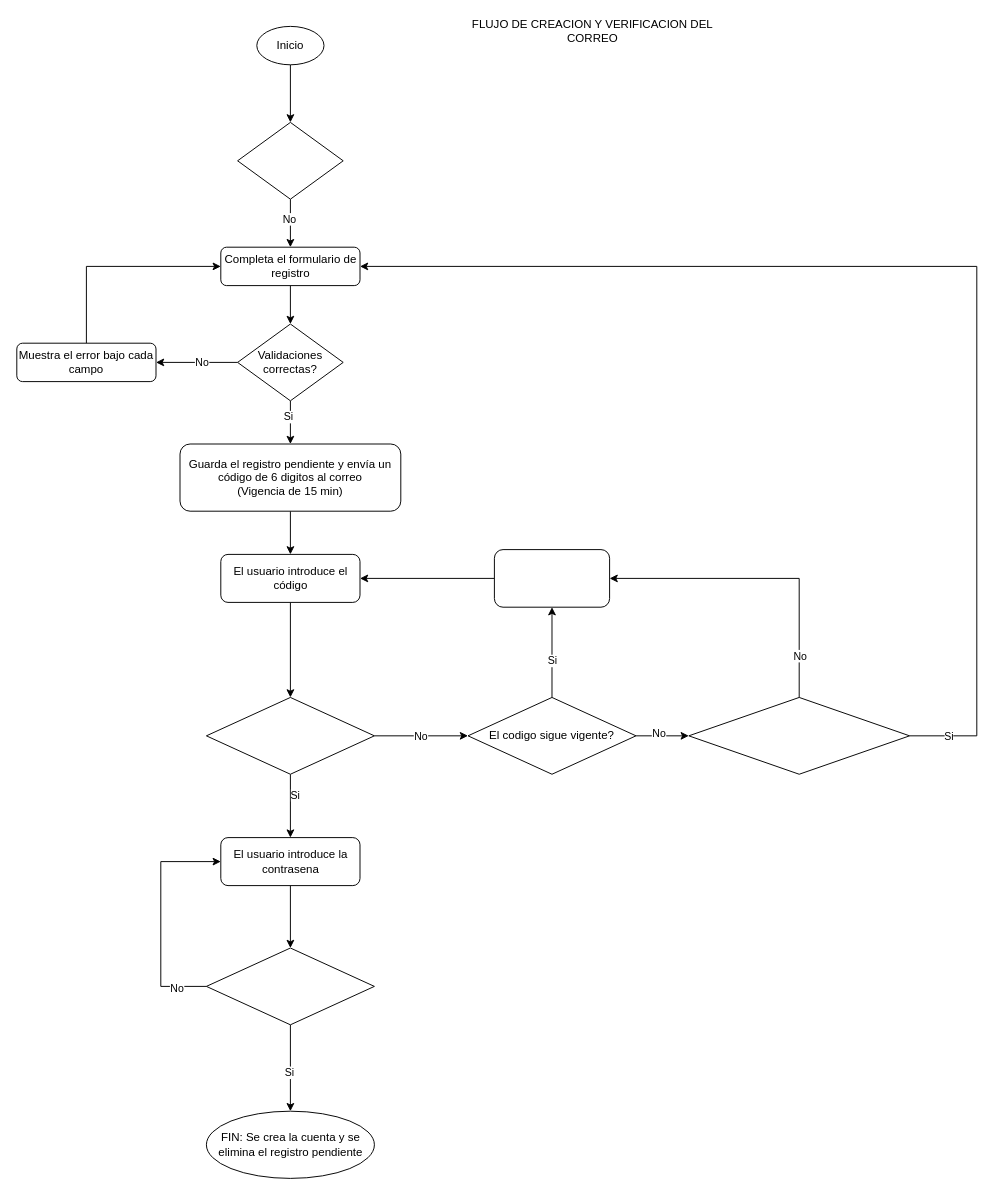
Image size: 1001x1195. Some labels were removed from this diagram. Here are the shapes that lost their labels. From the top down, the centre of each, then its label:
At [290,160]: "Tiene cuenta?".
At [551,578]: "Reenviar codigo (Con limite de frecuencia)".
At [289,735]: "Codigo valido?".
At [799,735]: "Han pasado 15 minutos desde la expiracion del codigo?".
At [289,986]: "Contrasena valida?".
